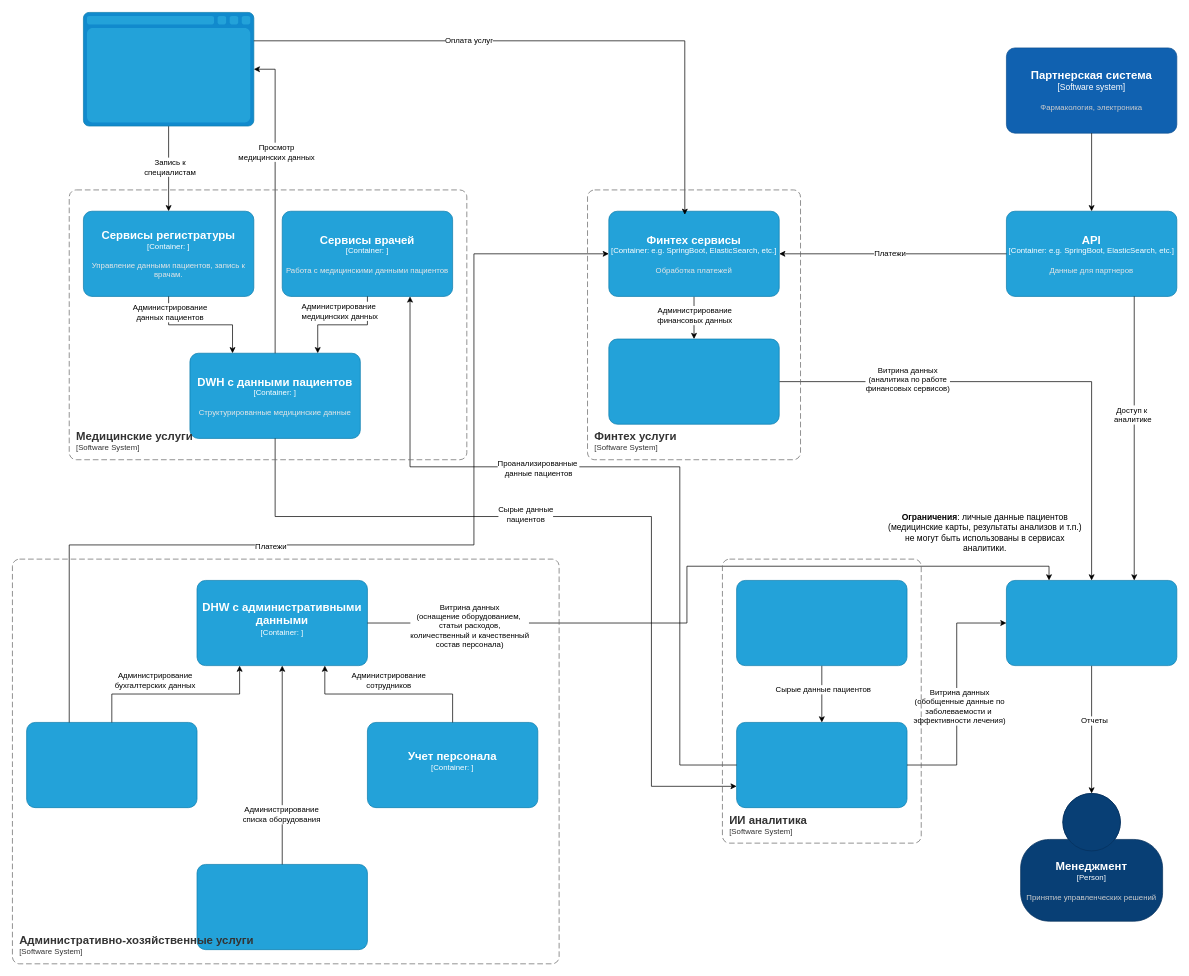
This 1189x976 diagram has some shape labels left out. Here are the shapes that lost their labels. From the top down, the centre of each, then its label:
At [168,69]: "Мобильное приложение [Container: ] Приложение для клиентов".
At [693,381]: "DWH с финансовыми данными [Container: ]".
At [821,623]: "Datalake [Container: ] Неструктурированные медицинские данные".
At [1091,623]: "Сервисы аналитики [Container: ] Сбор данных".
At [111,765]: "Бухгалтерские сервисы [Container: ] Бухгалтерский учет и аудит".
At [821,765]: "ИИ сервисы [Container: ]".
At [281,907]: "Учет оборудования [Container: ]".
